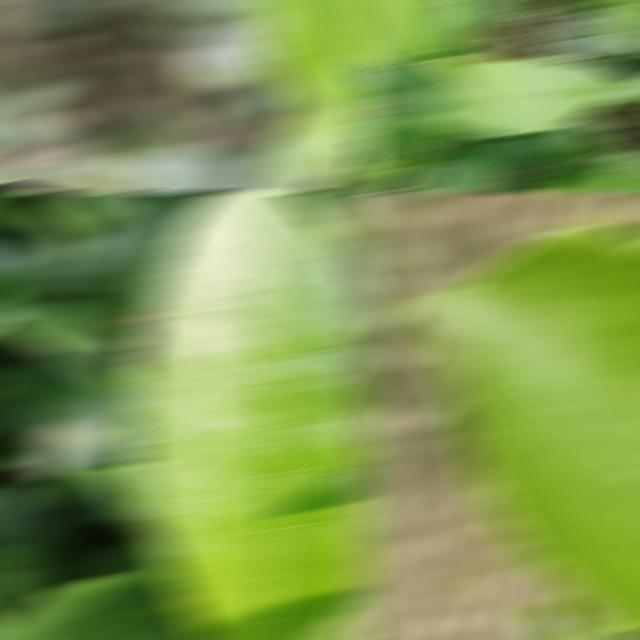Leaf: (123, 193, 373, 639), (402, 228, 640, 625), (27, 358, 142, 505), (82, 193, 216, 317), (422, 58, 619, 134), (0, 566, 184, 639), (0, 302, 126, 383), (263, 109, 343, 191), (361, 78, 432, 168), (0, 235, 94, 302), (430, 56, 516, 118), (355, 1, 431, 69), (0, 545, 80, 606), (132, 145, 237, 191), (534, 9, 633, 57), (0, 481, 66, 545), (415, 151, 499, 191), (52, 193, 131, 232), (562, 62, 640, 100), (519, 599, 593, 639), (550, 118, 610, 164), (386, 126, 438, 177), (395, 1, 453, 43), (592, 149, 640, 191), (603, 1, 640, 55), (445, 1, 497, 32), (340, 146, 373, 191), (545, 177, 607, 191), (512, 180, 553, 191), (484, 6, 511, 17)
